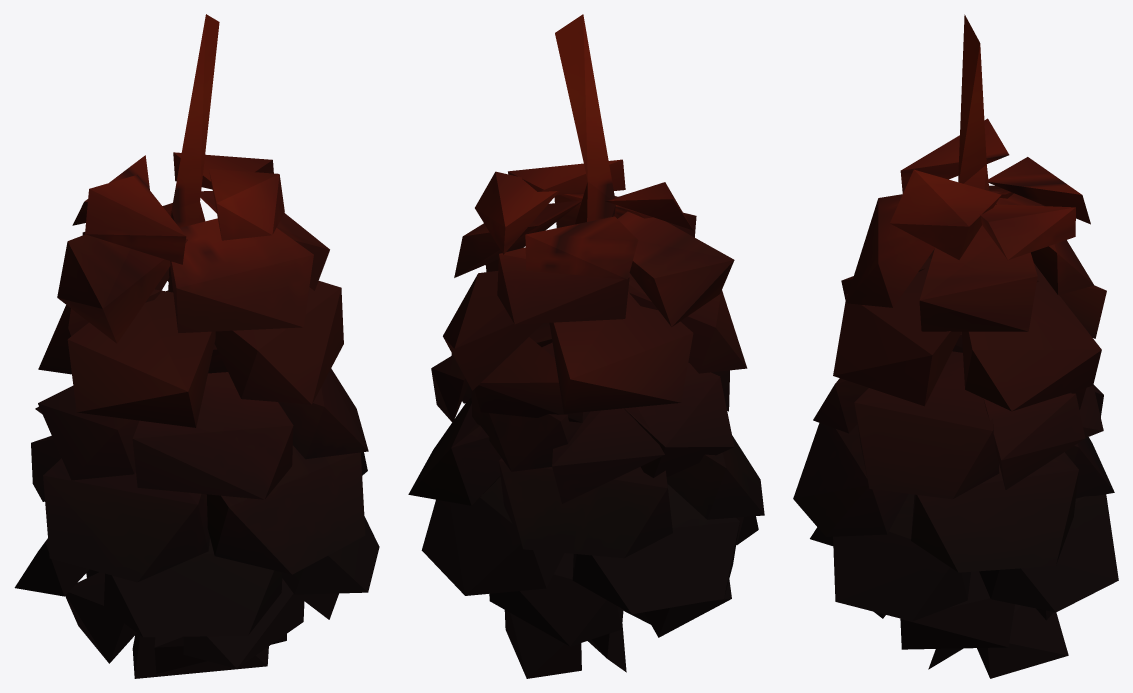
File: pine_cone.glb
3 renders of one model, left to right at view 1: azimuth 30°, elevation 25°; view 2: azimuth 150°, elevation 25°; view 3: azimuth 270°, elevation 25°, orthographic. The views are drawn at different scales.
Parts seen in each view (by area): view 1: Cylinder.003_Cylinder.001; view 2: Cylinder.003_Cylinder.001; view 3: Cylinder.003_Cylinder.001.
Boxes of the visible parts, x1,y1,x2,y2 form: Cylinder.003_Cylinder.001: [14, 14, 379, 678]; Cylinder.003_Cylinder.001: [408, 14, 764, 678]; Cylinder.003_Cylinder.001: [793, 14, 1118, 678].
Size of the model in its own units: 0.2227 by 0.4242 by 0.1938.
Materials: 1 (1 with a texture image).
